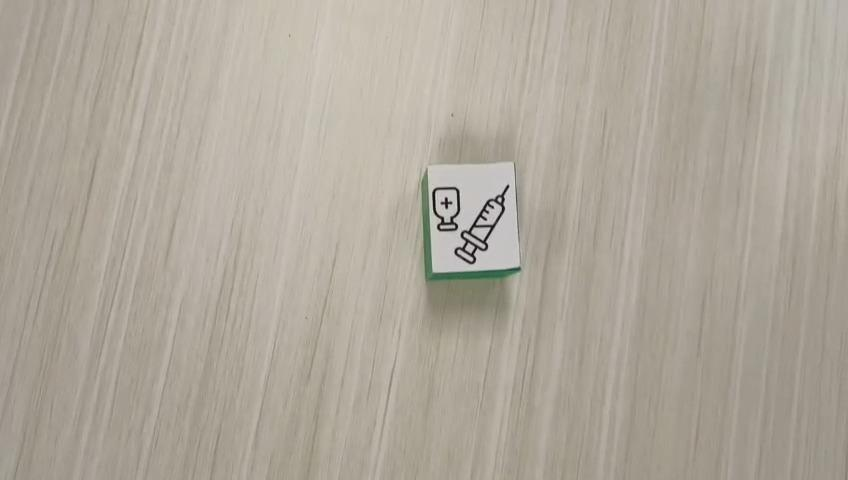antiseptic cream: (419, 159, 521, 280)
